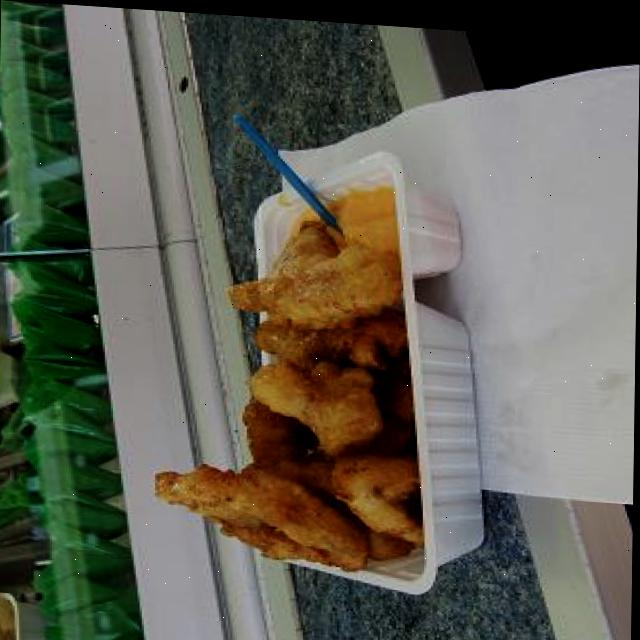炸货点心: (166, 148, 441, 605)
熟制海鲜: (166, 148, 441, 605)
